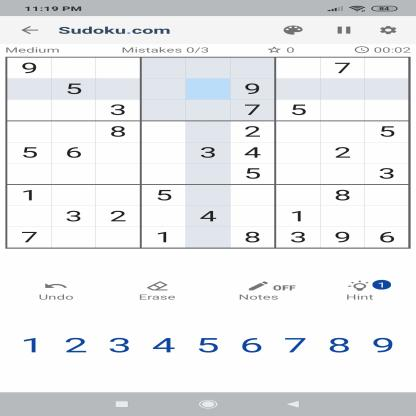sudoku: (0, 53, 416, 252)
